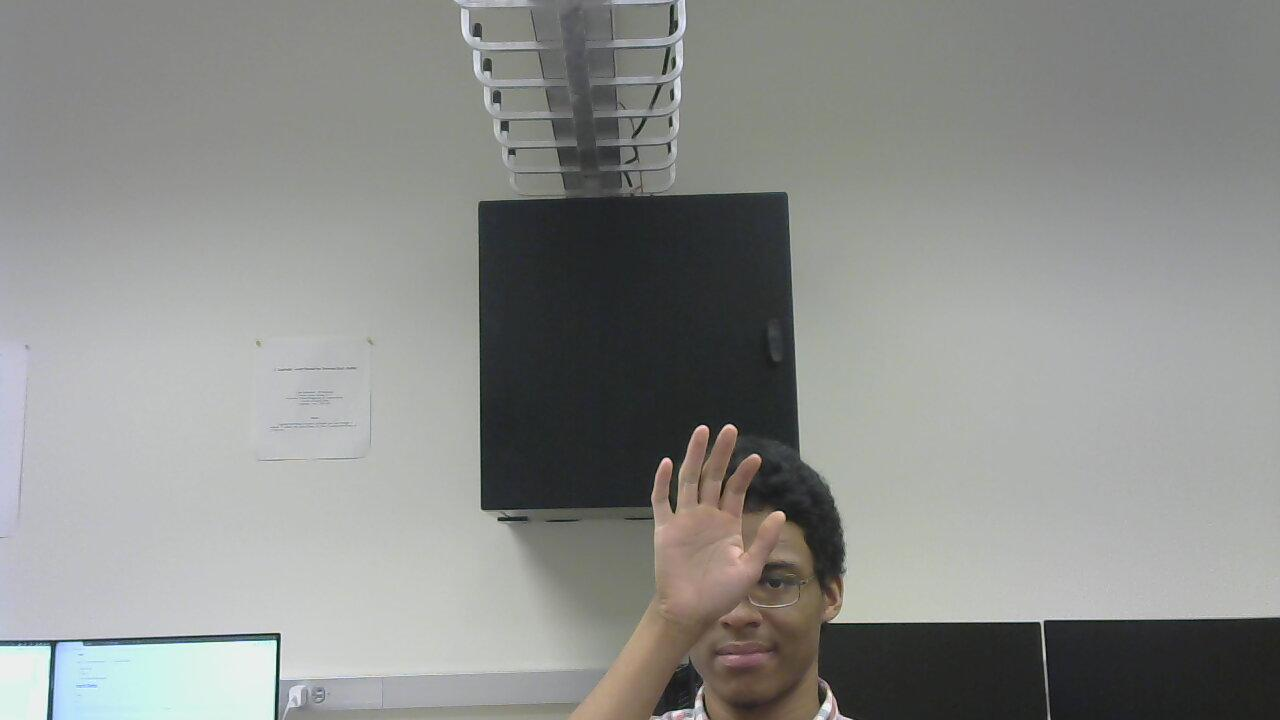hands: (648, 414, 792, 619)
